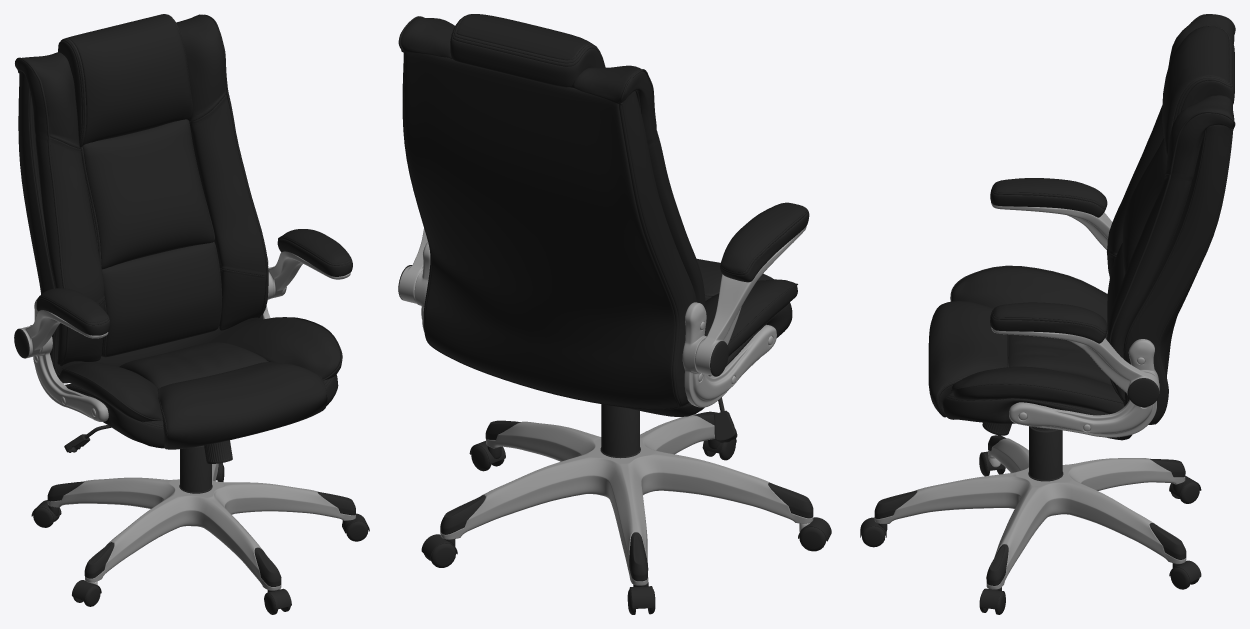
File: chair_B0BD7Z94ZQ_office_leatherBlack.glb
The picture shows the model from 3 angles, left to right: view 1: azimuth 30°, elevation 25°; view 2: azimuth 150°, elevation 25°; view 3: azimuth 270°, elevation 25°; orthographic projection. The views are drawn at different scales.
Parts seen in each view (by area): view 1: PTRCH6JGMXRPKAUE; view 2: PTRCH6JGMXRPKAUE; view 3: PTRCH6JGMXRPKAUE.
Boxes of the visible parts, x1=… form: PTRCH6JGMXRPKAUE: x1=14, y1=14, x2=369, y2=614; PTRCH6JGMXRPKAUE: x1=398, y1=14, x2=831, y2=614; PTRCH6JGMXRPKAUE: x1=860, y1=14, x2=1235, y2=614.
Bounding box in the file's own units: 0.8006 × 1.22 × 0.838.
Materials: 1 (1 with a texture image).
